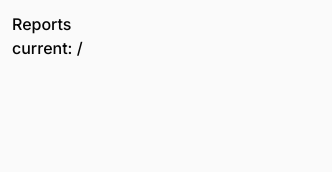
Test case: Link › navigates in-SPA on a plain left click
Expected: the text "current: /" is shown, [12,38,83,58]
Click the link "Reports" at (42, 24), box [12,14,72,34]
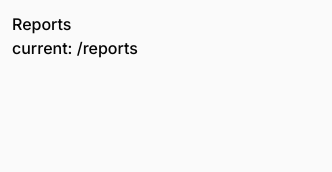
Expected: the text "current: /reports" is shown, [12,38,138,58]
